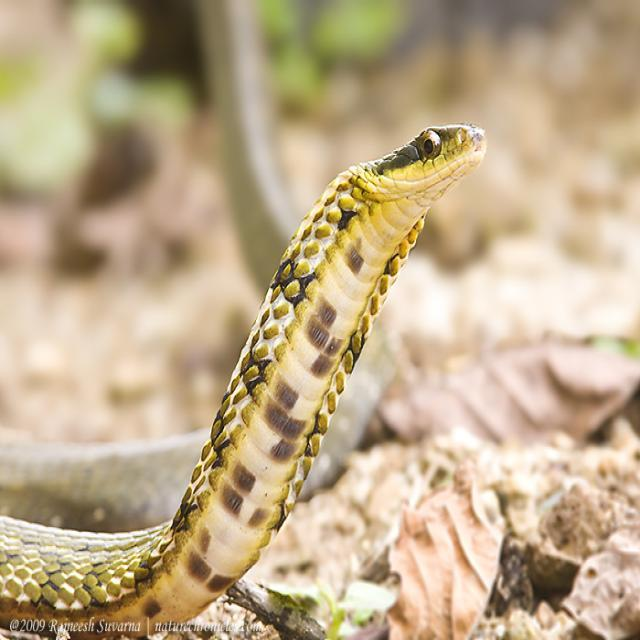Snake: (0, 119, 491, 640)
